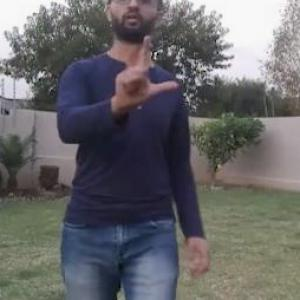land_hand: (105, 27, 181, 109)
